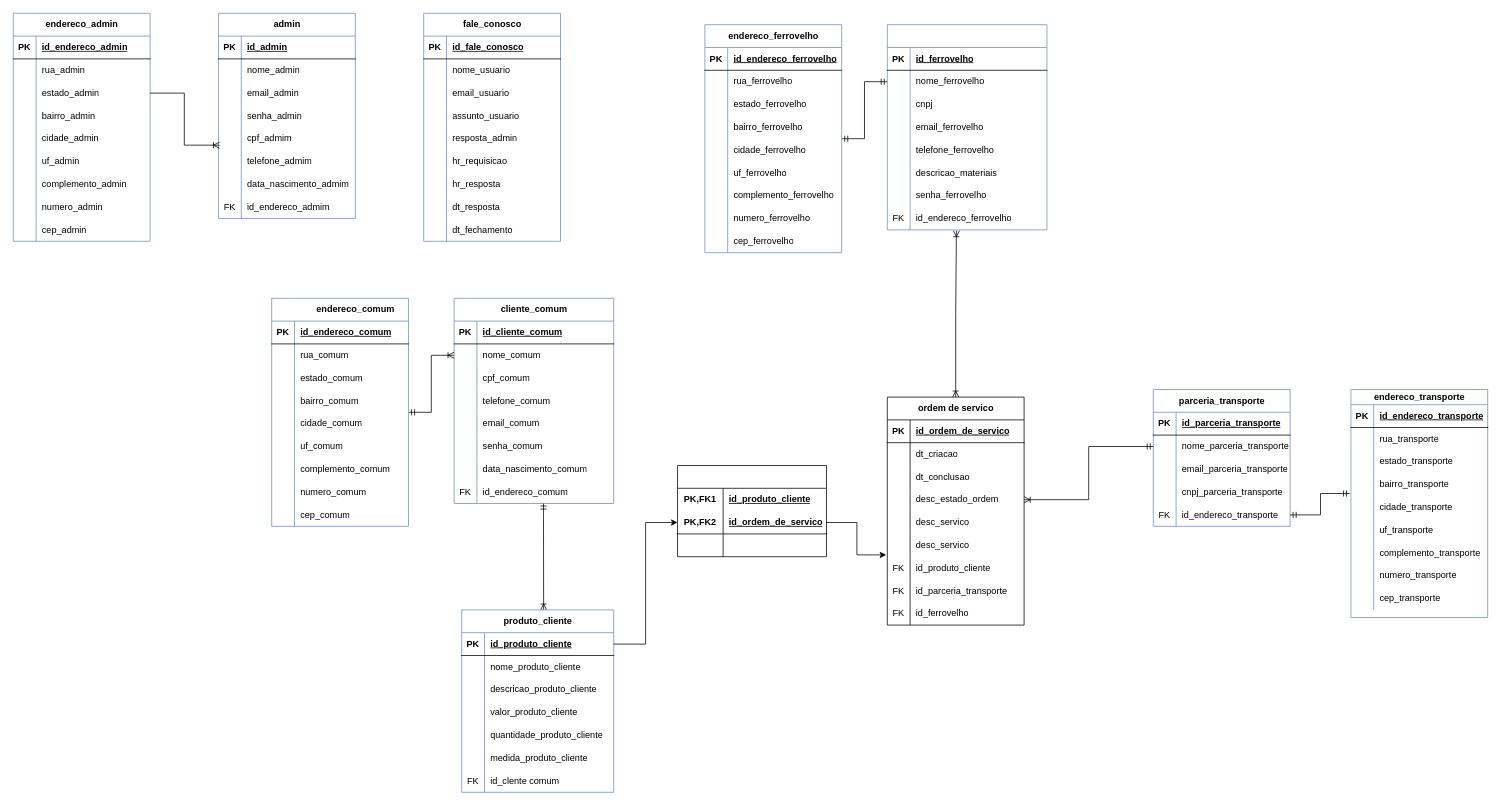
Image size: 1501x806. Some labels were removed from this diagram. The shapes that lost their labels are listed below. From the top down, each one's box as (x1, y1, x2, y2) in pixels, then its label:
(887, 24, 1047, 230): cadastro_ferrovelho
(677, 465, 826, 557): Produto_Ordem_Servico
